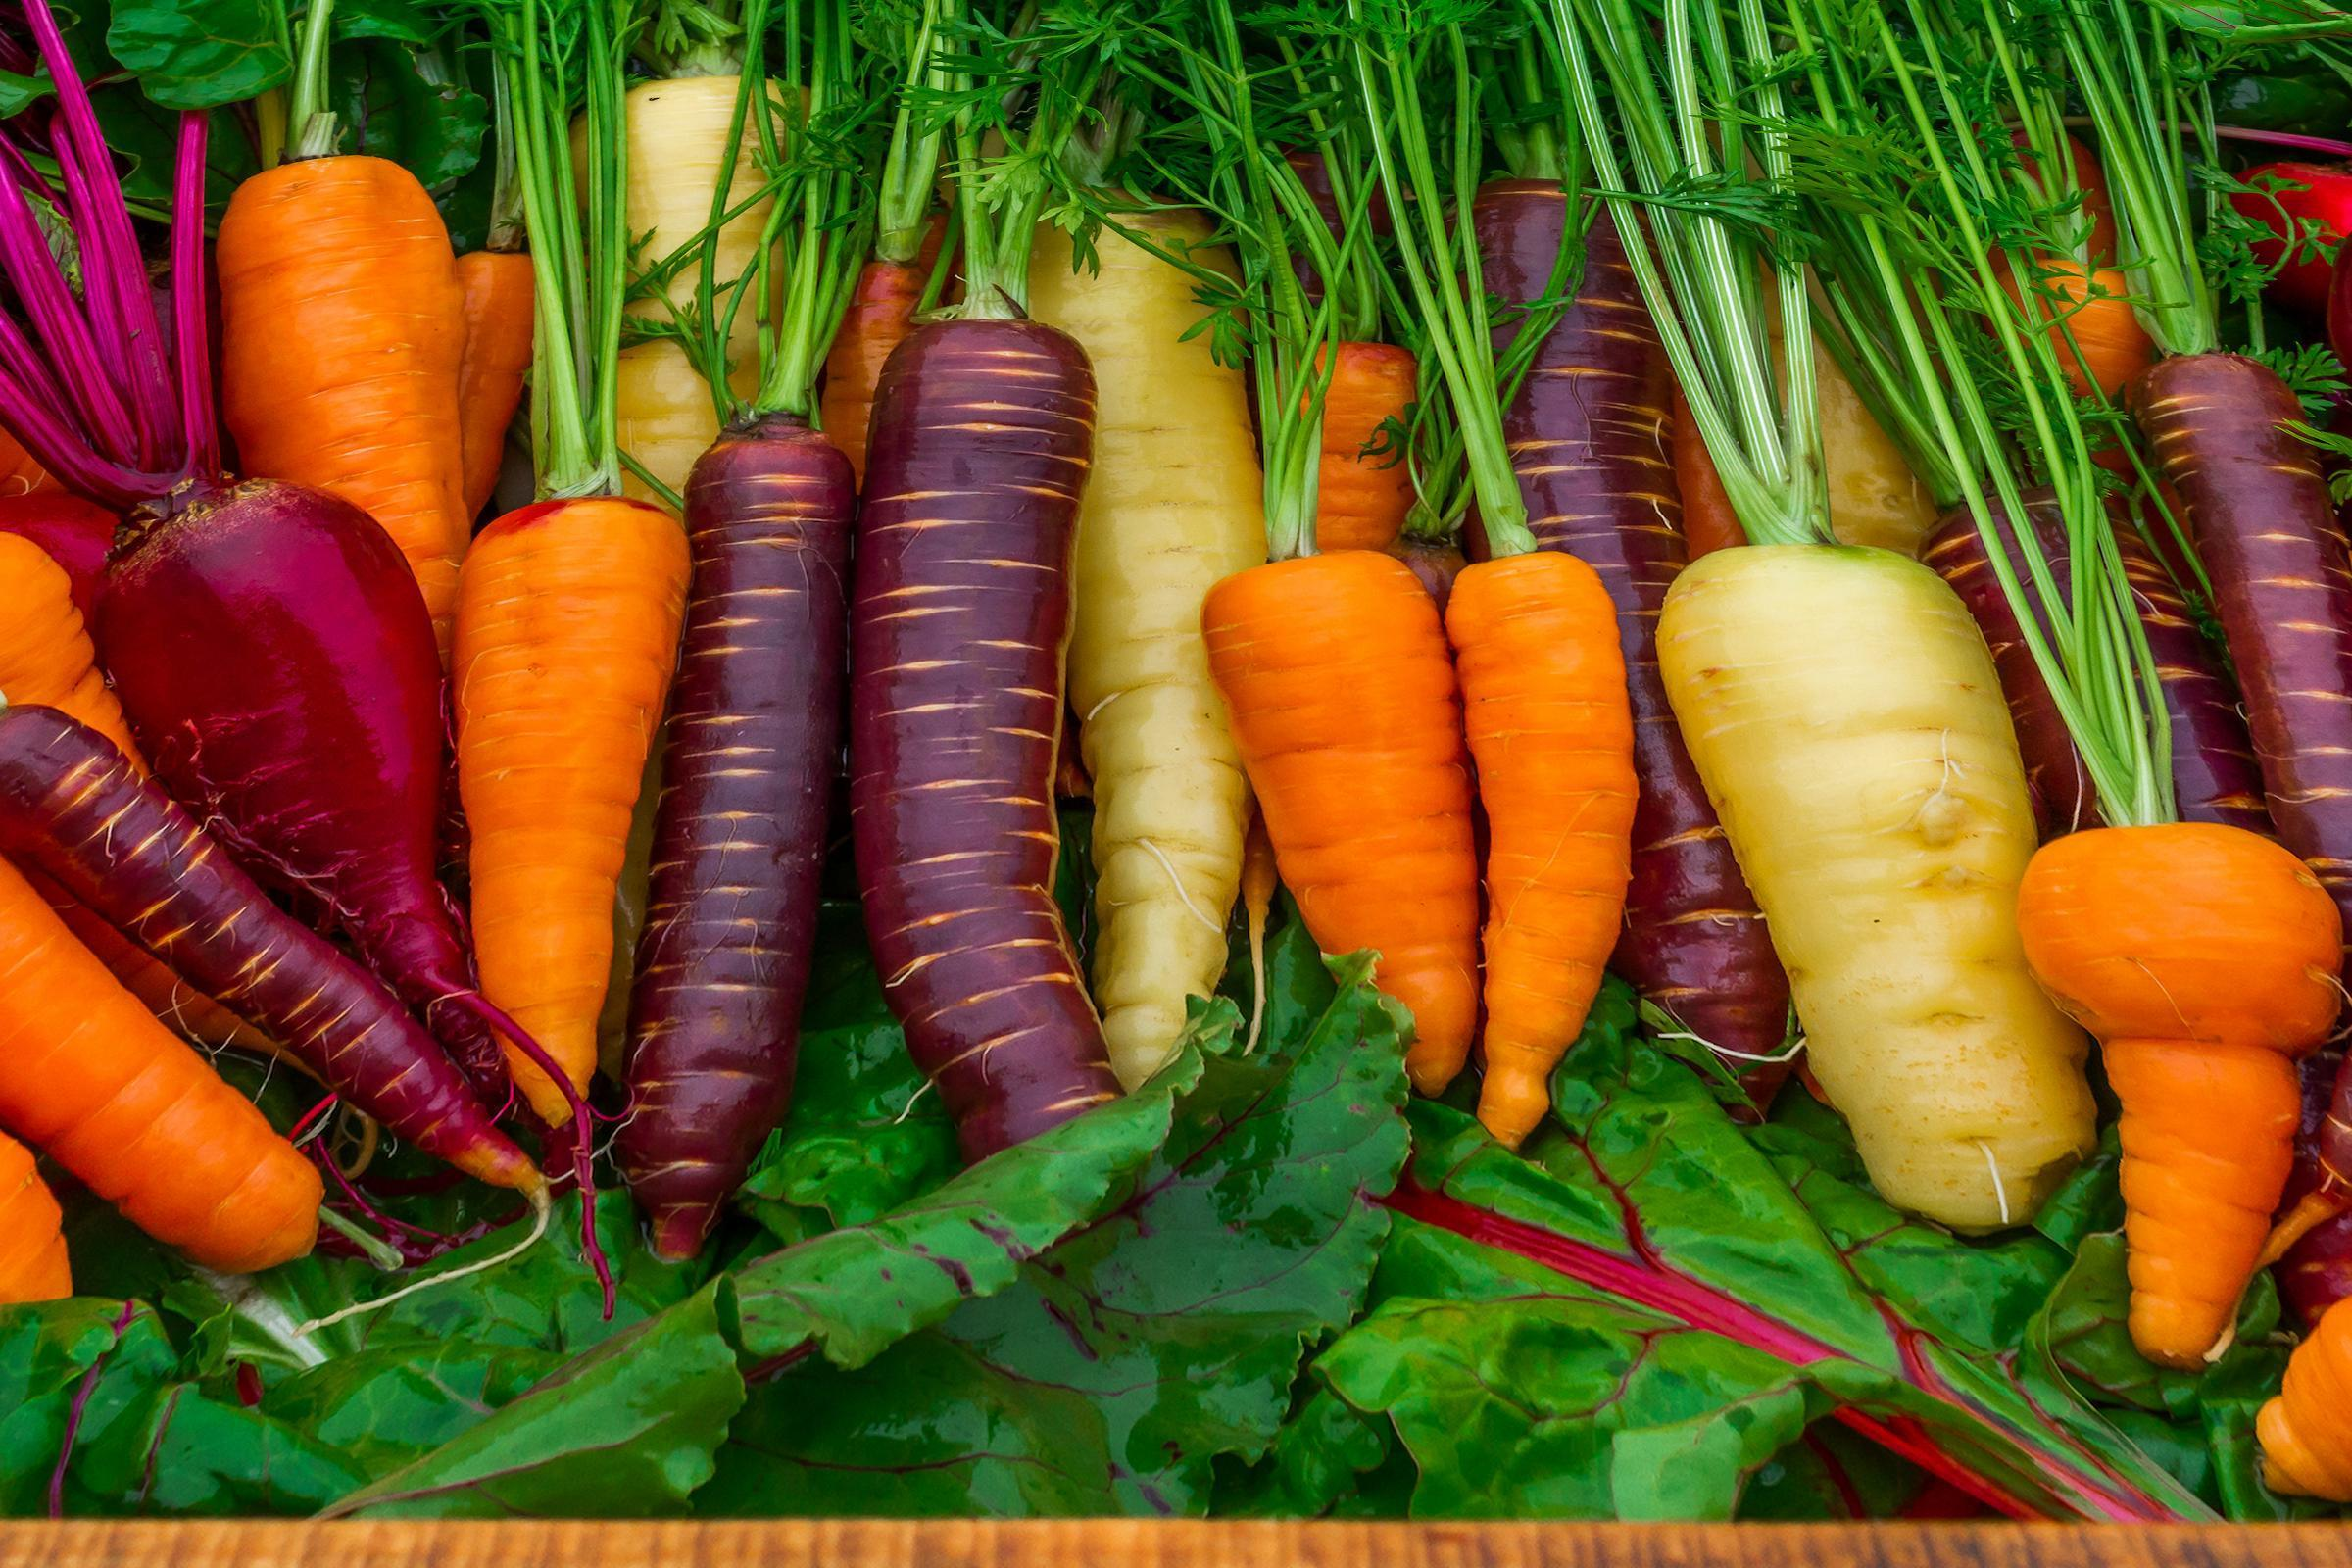carrot: (1230, 571, 1641, 1162), (2044, 845, 2333, 1351), (458, 472, 661, 1115), (0, 870, 243, 1353), (189, 140, 520, 469)
